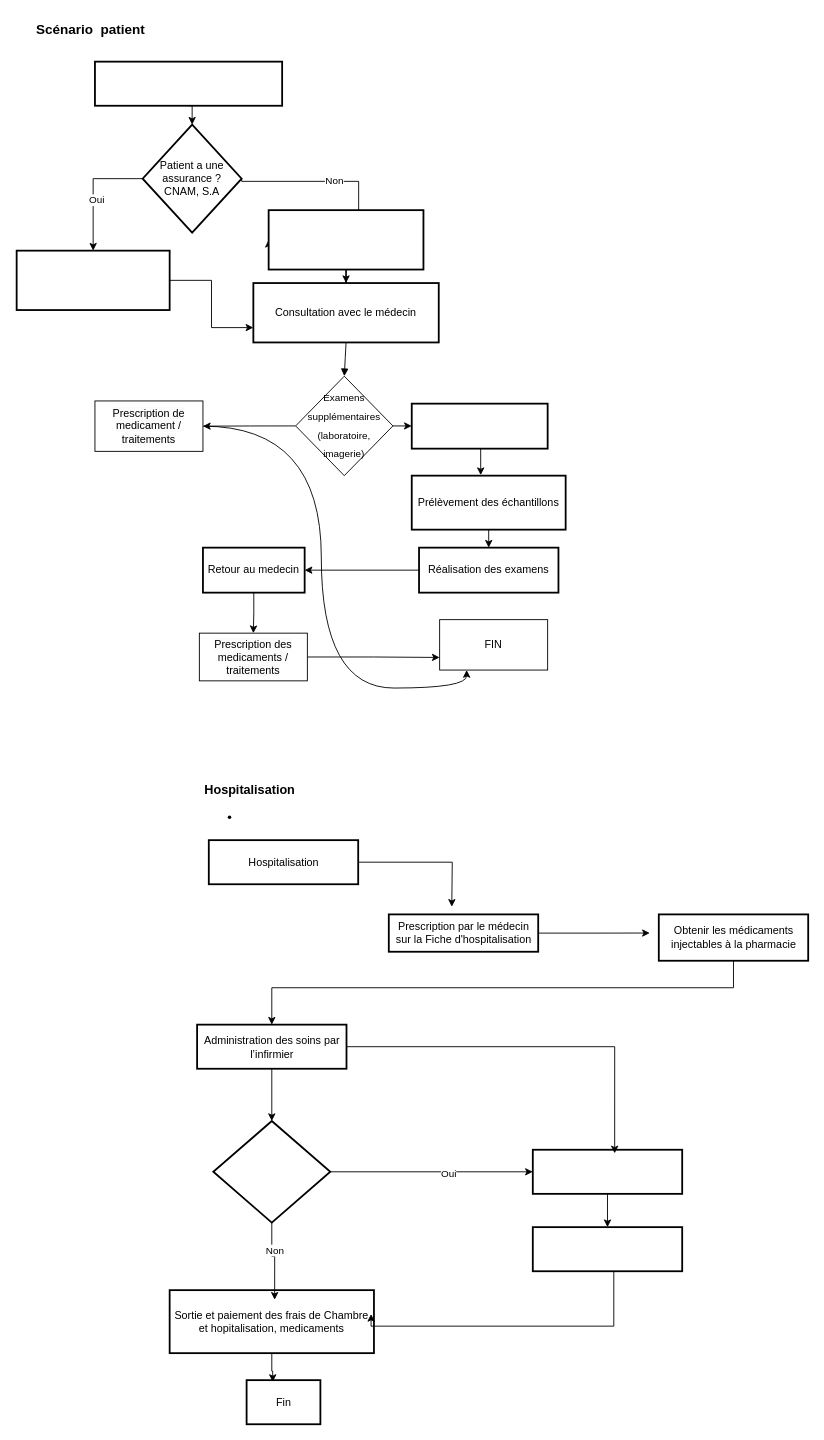
The diagram is 824 pixels wide and 1440 high, and some of its shapes have lost their labels. Here are the shapes that lost their labels. From the top down, the centre of each, then its label:
At [188,83]: "Prise de rendez-vous".
At [345,239]: "Paiement avant consultation".
At [92,279]: "Vérification de la prise en charge / paiement montant partiel".
At [479,425]: "Paiement des examens".
At [271,1171]: "Accouchement ?".
At [607,1171]: "Remplissage de certificat d'accouchement".
At [607,1249]: "Signature du fiche".
